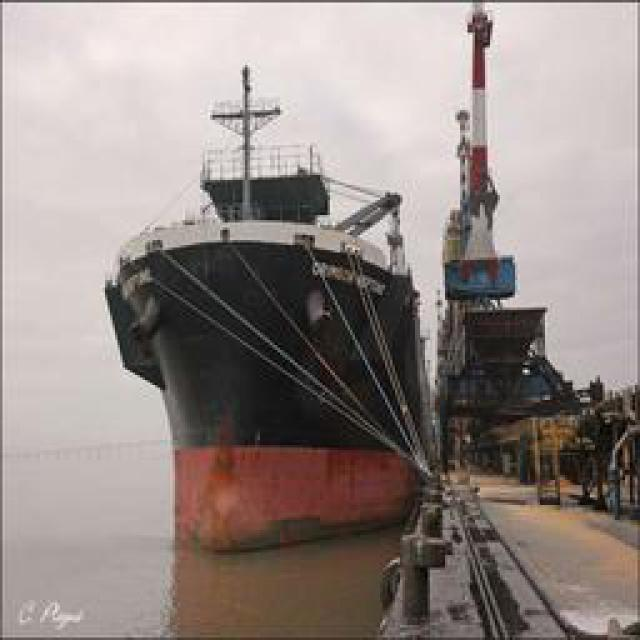Ship: (102, 76, 472, 601)
